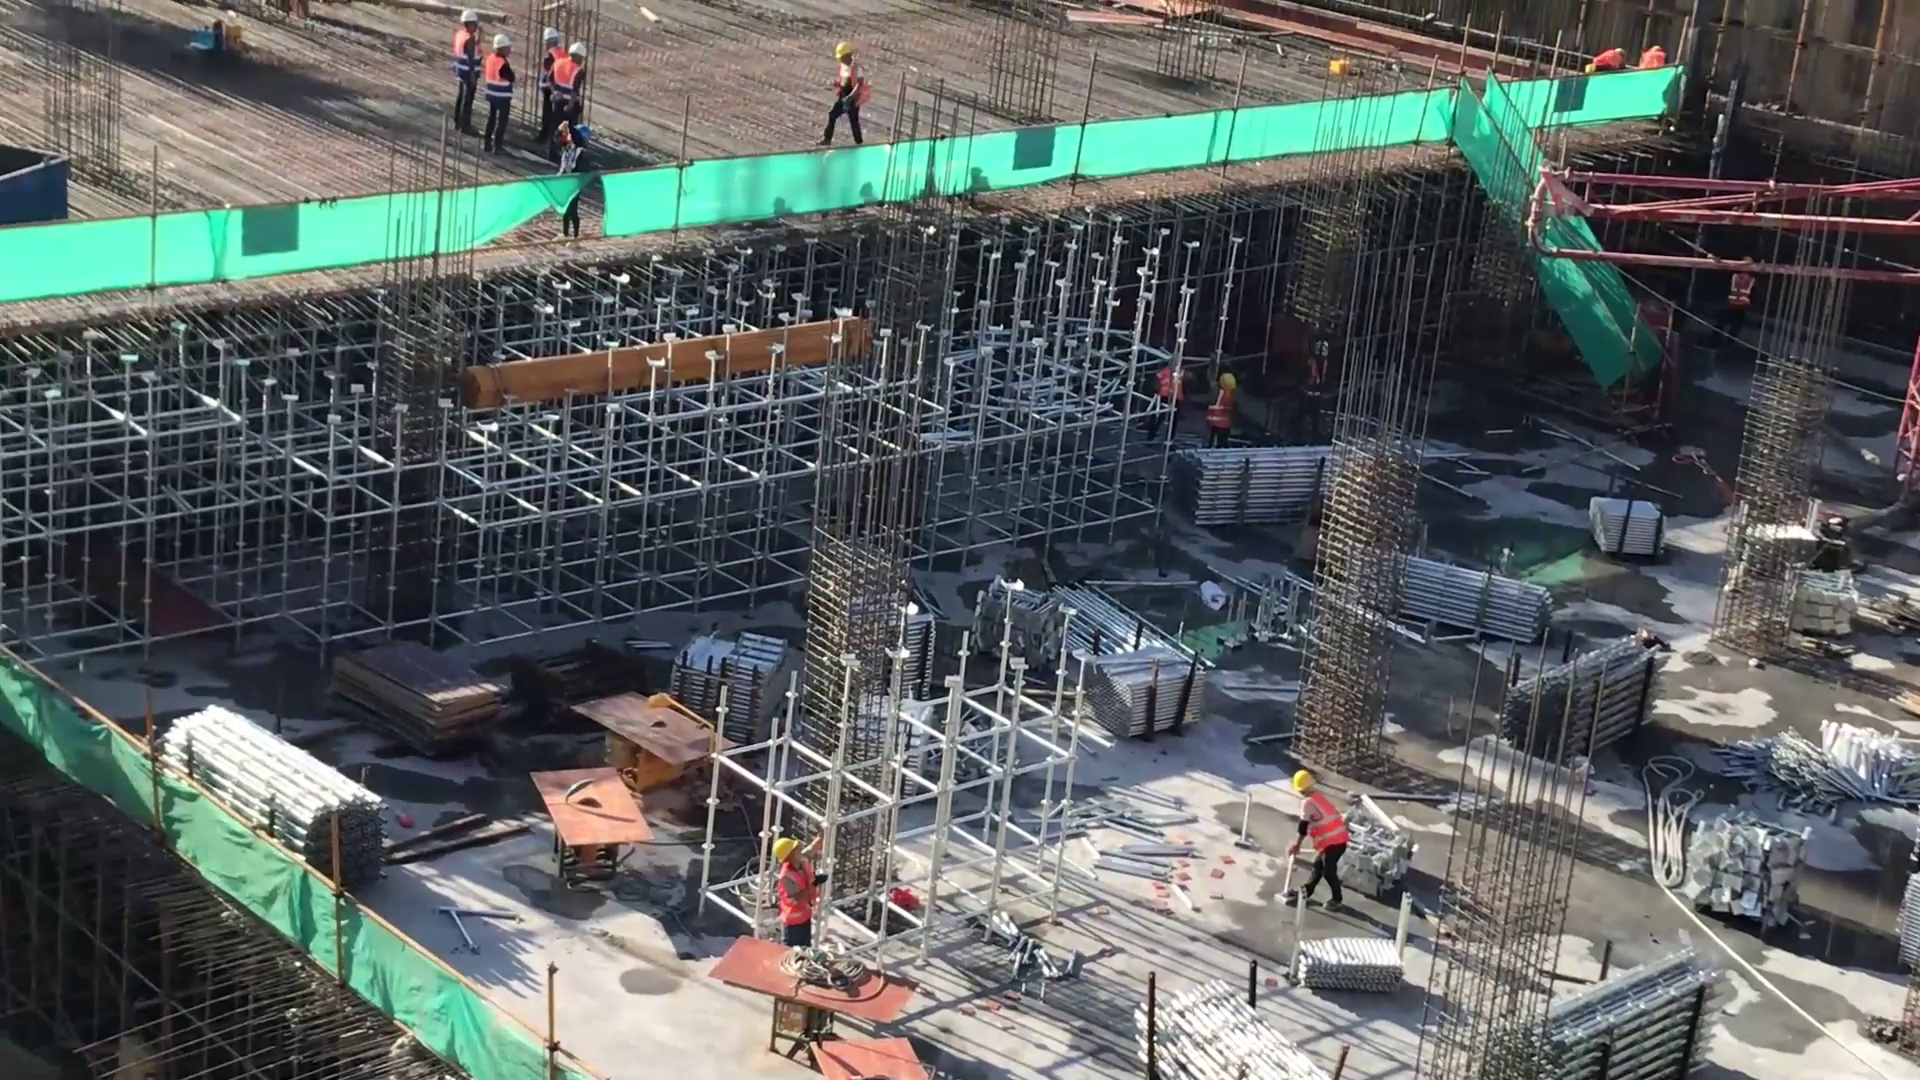board: (330, 637, 506, 757)
helmet: (1288, 764, 1330, 804), (765, 837, 805, 862), (462, 2, 483, 37), (832, 39, 855, 64), (1216, 370, 1242, 391), (572, 26, 589, 57), (491, 33, 515, 52), (539, 18, 555, 47)
person: (1288, 769, 1351, 911), (771, 834, 833, 969), (537, 24, 591, 157), (821, 43, 868, 153), (484, 34, 518, 162), (454, 7, 485, 134), (1204, 370, 1239, 445)
scaffold: (146, 702, 396, 893), (1484, 947, 1732, 1080), (1116, 973, 1321, 1080), (1506, 631, 1664, 753), (1173, 435, 1342, 534), (674, 620, 796, 745), (1389, 551, 1559, 641), (1084, 636, 1213, 745), (1042, 570, 1161, 663)
vest: (776, 868, 819, 932), (1300, 793, 1343, 853)
